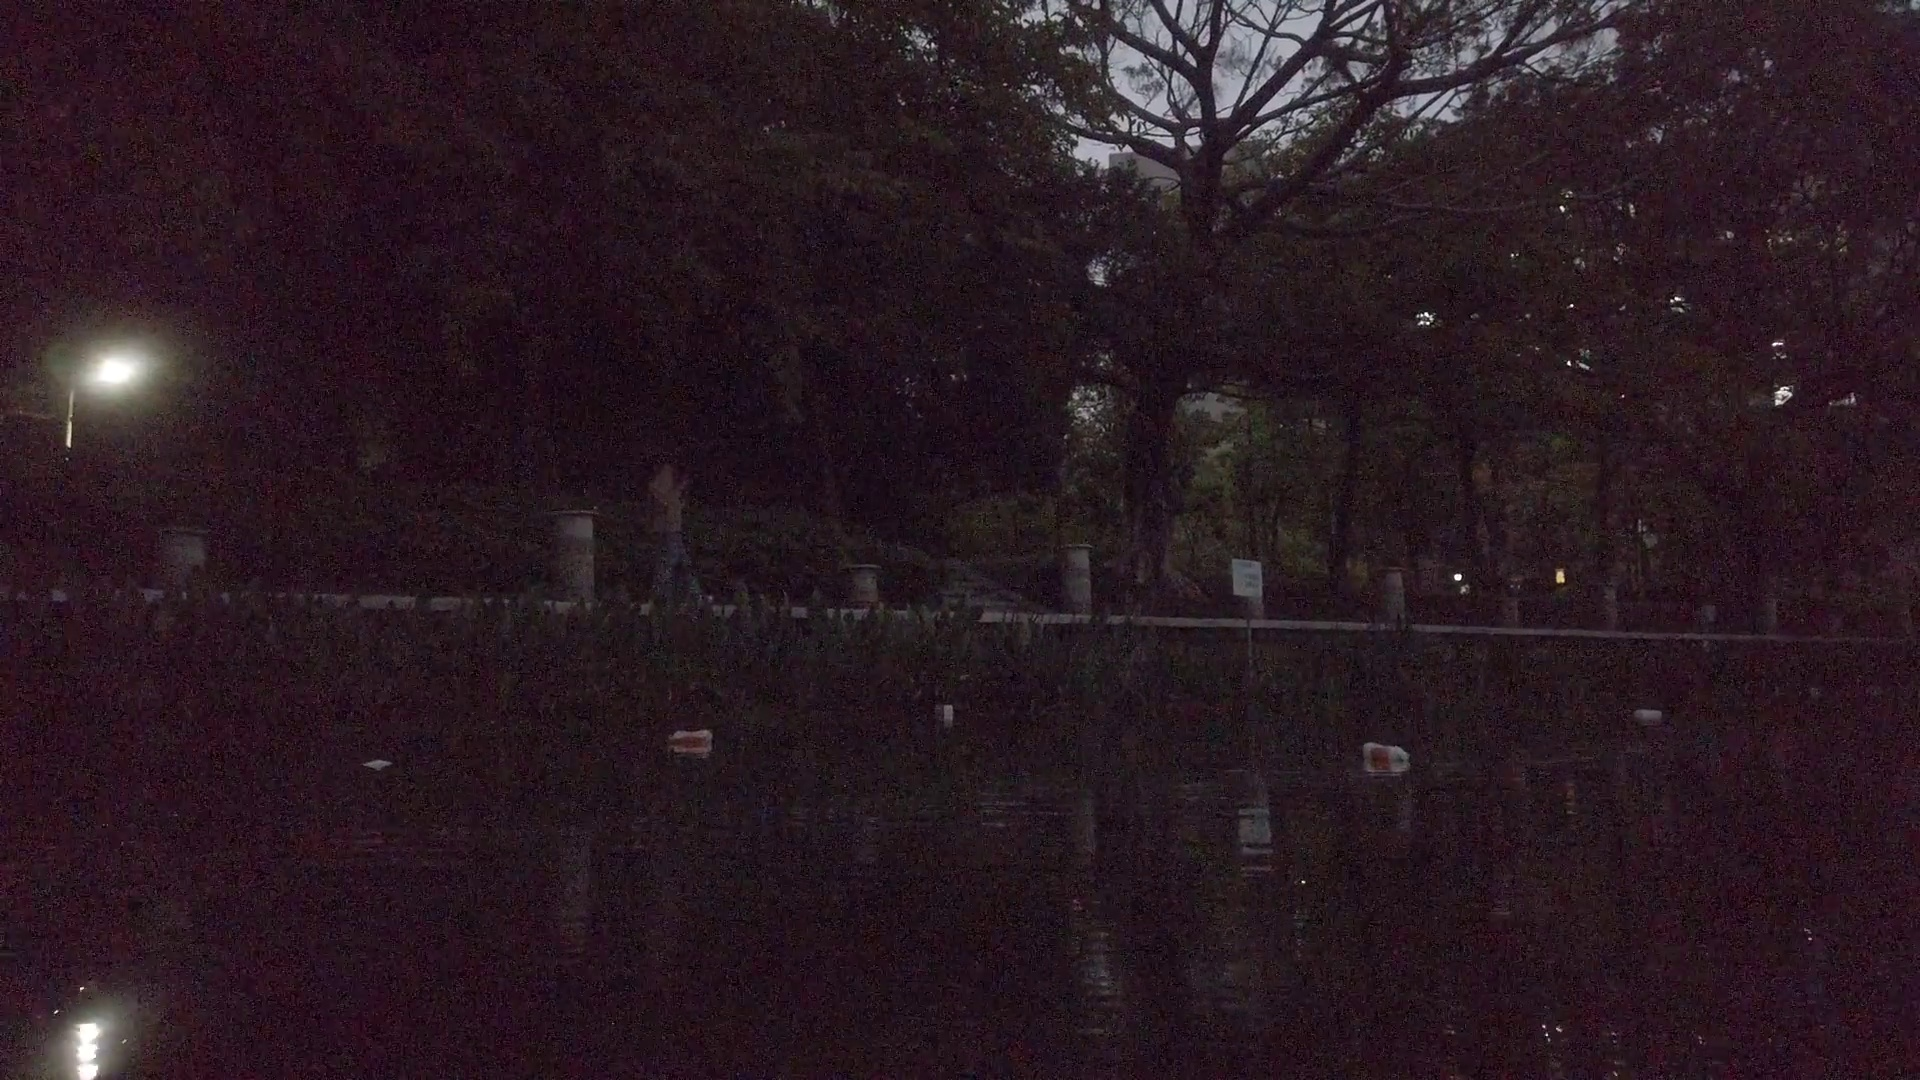bottle: (1364, 737, 1408, 767), (669, 728, 712, 746)
carton: (935, 698, 955, 723), (1636, 707, 1660, 719)
paper: (363, 754, 392, 773)
